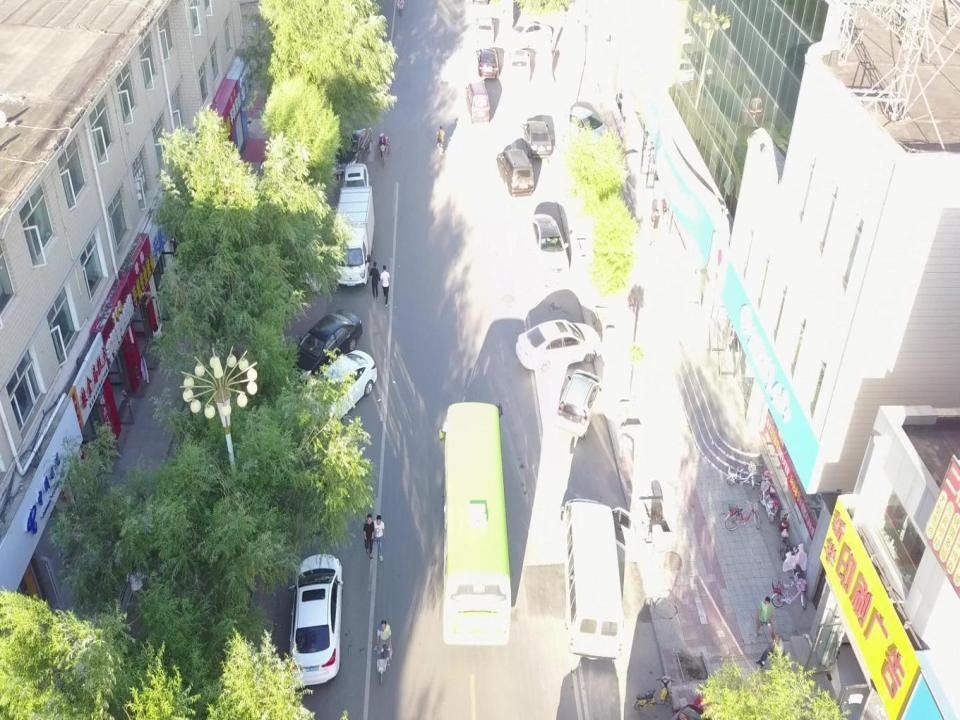bus: (438, 400, 512, 647)
car: (561, 496, 635, 662), (290, 348, 377, 439), (288, 551, 342, 689), (283, 308, 362, 387), (515, 318, 602, 375), (554, 368, 602, 439), (529, 214, 570, 276), (332, 125, 374, 176), (566, 105, 608, 146), (508, 20, 553, 50), (341, 163, 368, 208), (522, 120, 552, 159), (507, 49, 531, 85), (475, 46, 499, 79), (475, 15, 495, 42)
truck: (330, 185, 374, 289)
van: (496, 148, 534, 197), (465, 81, 491, 124)
